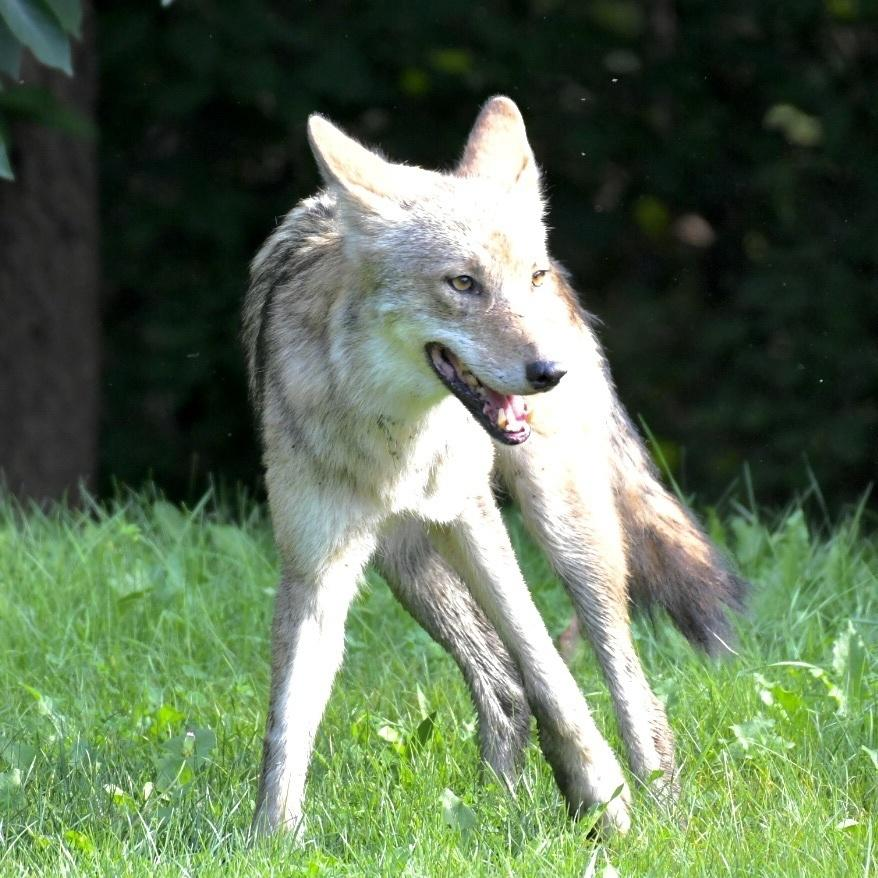Coyote: (240, 94, 749, 854)
